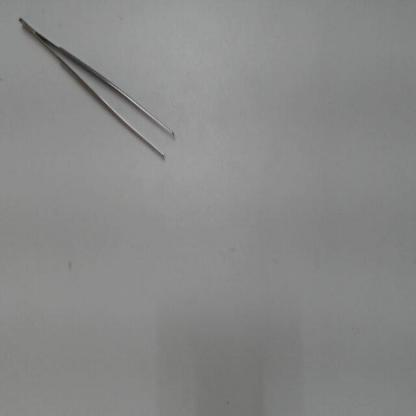Gillies Toothed Dissector: (15, 11, 182, 172)
